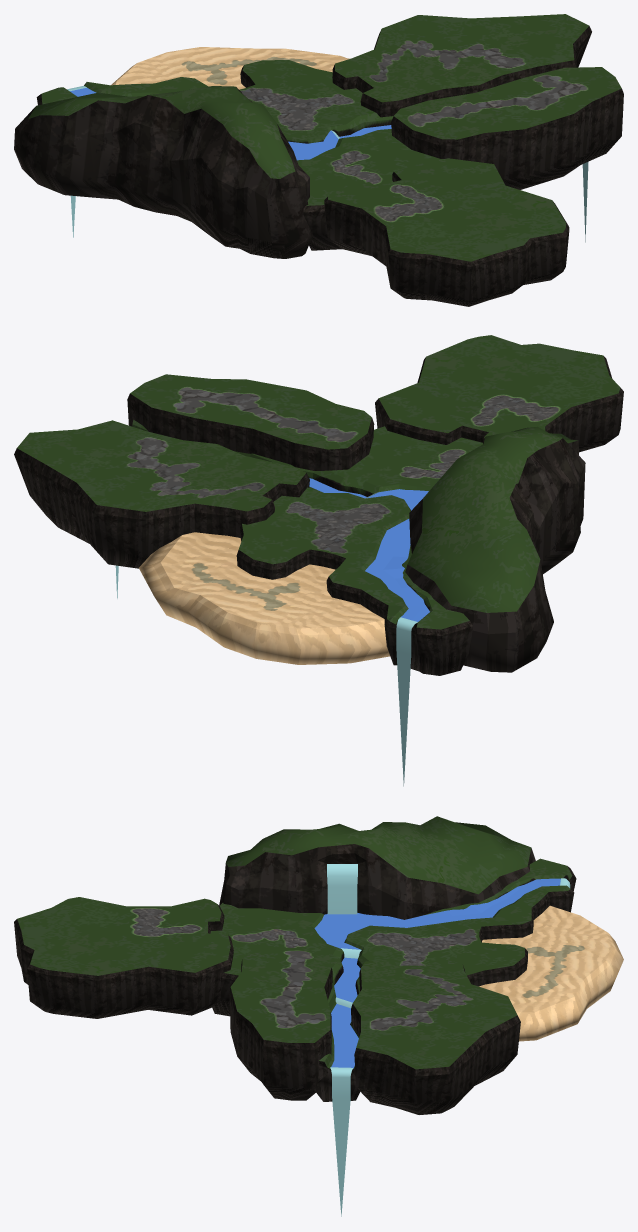
The model's file is Island 2.0.fbx.
3 views of the same model, one above another, from view 1: azimuth 30°, elevation 25°; view 2: azimuth 150°, elevation 25°; view 3: azimuth 270°, elevation 25° (orthographic). The views are drawn at different scales.
Parts seen in each view (by area): view 1: Mountain, Lv4, Lv3, Lv2, Lv1, Lv0, River; view 2: Mountain, Lv2, Lv1, Lv4, Lv0, Lv3, River, WaterFall.003; view 3: Mountain, Lv4, Lv2, Lv1, Lv3, Lv0, River, WaterFall.004, WaterFall, River.002, River.001.
Boxes of the visible parts, <box> form: Mountain: <box>14,86,312,258</box>; Lv4: <box>324,158,569,306</box>; Lv3: <box>391,67,623,189</box>; Lv2: <box>332,14,591,117</box>; Lv1: <box>36,60,443,250</box>; Lv0: <box>111,47,349,89</box>; River: <box>70,87,338,160</box>; Mountain: <box>405,426,585,672</box>; Lv2: <box>14,420,309,568</box>; Lv1: <box>132,419,482,675</box>; Lv4: <box>375,335,623,452</box>; Lv0: <box>139,532,389,664</box>; Lv3: <box>127,374,374,470</box>; River: <box>365,489,429,621</box>; WaterFall.003: <box>396,617,417,786</box>; Mountain: <box>219,816,535,919</box>; Lv4: <box>14,897,233,1018</box>; Lv2: <box>351,959,520,1114</box>; Lv1: <box>210,858,576,1101</box>; Lv3: <box>229,948,332,1100</box>; Lv0: <box>479,905,623,1041</box>; River: <box>314,878,560,949</box>; WaterFall.004: <box>330,1067,352,1216</box>; WaterFall: <box>327,864,357,914</box>; River.002: <box>331,1004,358,1068</box>; River.001: <box>334,957,360,1002</box>.
Size of the model in its own units: 17226 by 7416 by 18412.
